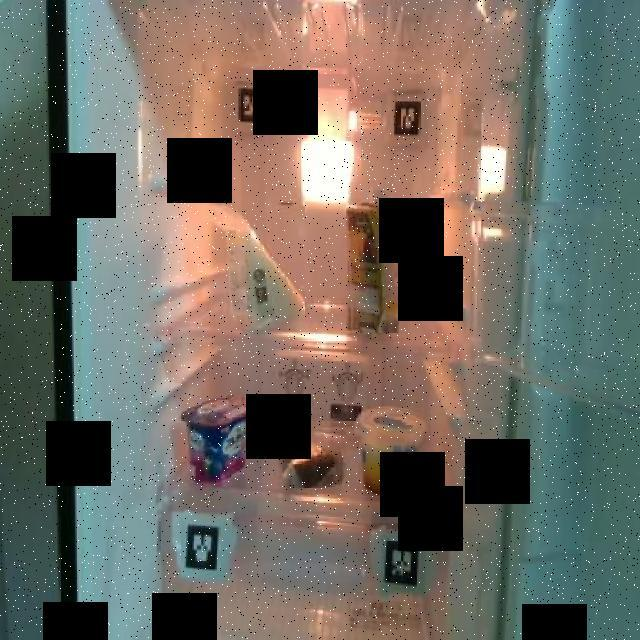pudding: (355, 406, 430, 496)
rice_ball: (266, 421, 346, 488)
sandwich: (217, 206, 305, 329)
smoothie: (346, 182, 400, 333)
yogurt: (179, 394, 256, 488)
